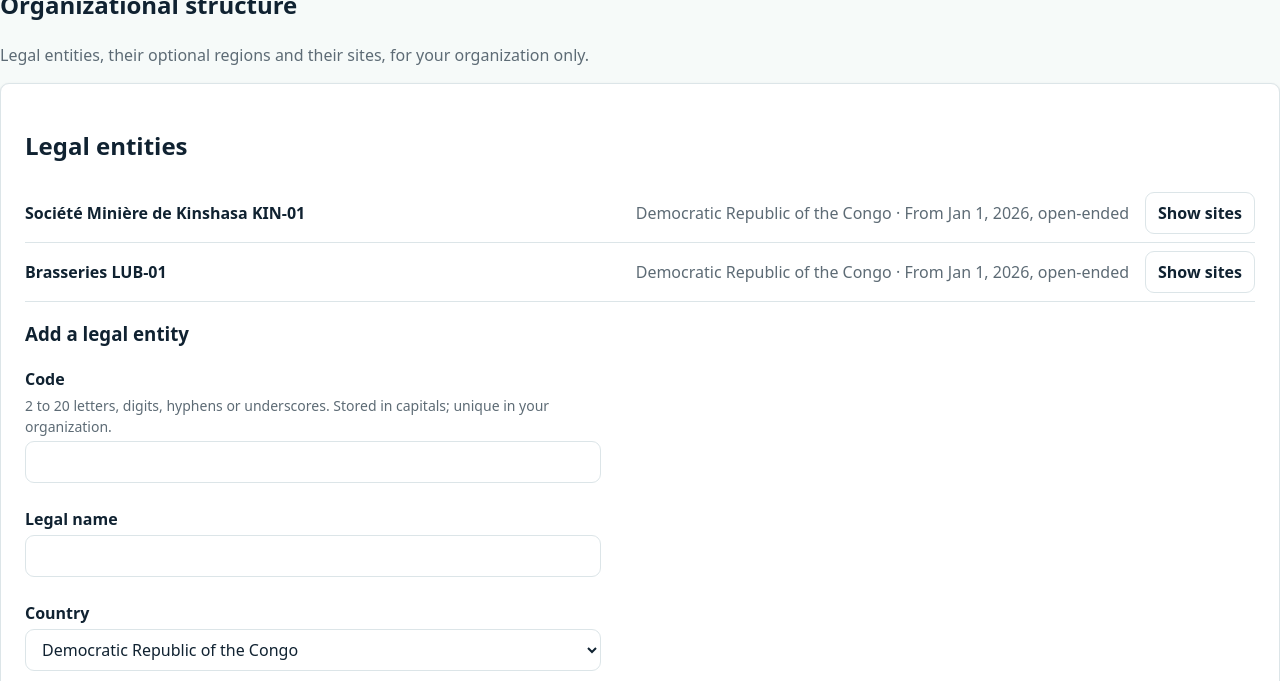
departments and cost centers behaviour › keeps server order without duplicates when a created row sorts after the cursor
This screenshot has width=1280, height=681.
Click the button "Show sites" in the row of "Société Minière de Kinshasa": (1200, 213) [1145,192,1255,234]
(page scrolled)
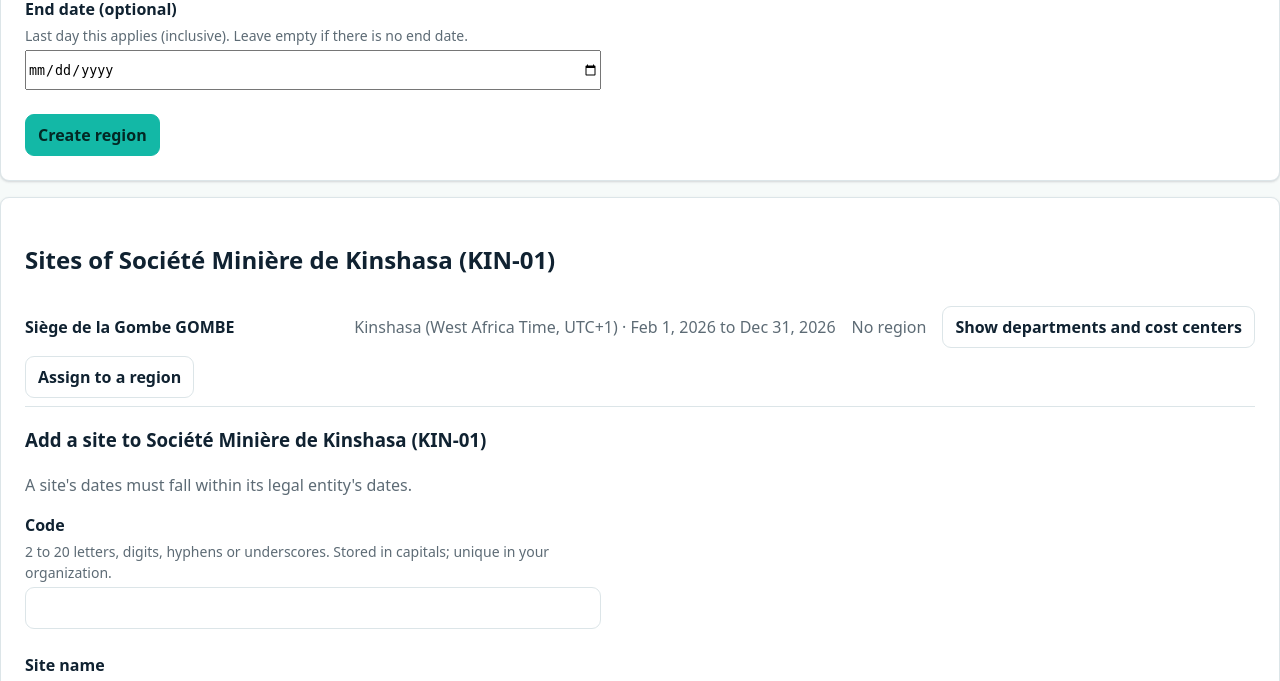
Click the button "Show departments and cost centers": (1099, 327) [942,306,1255,348]
(page scrolled)
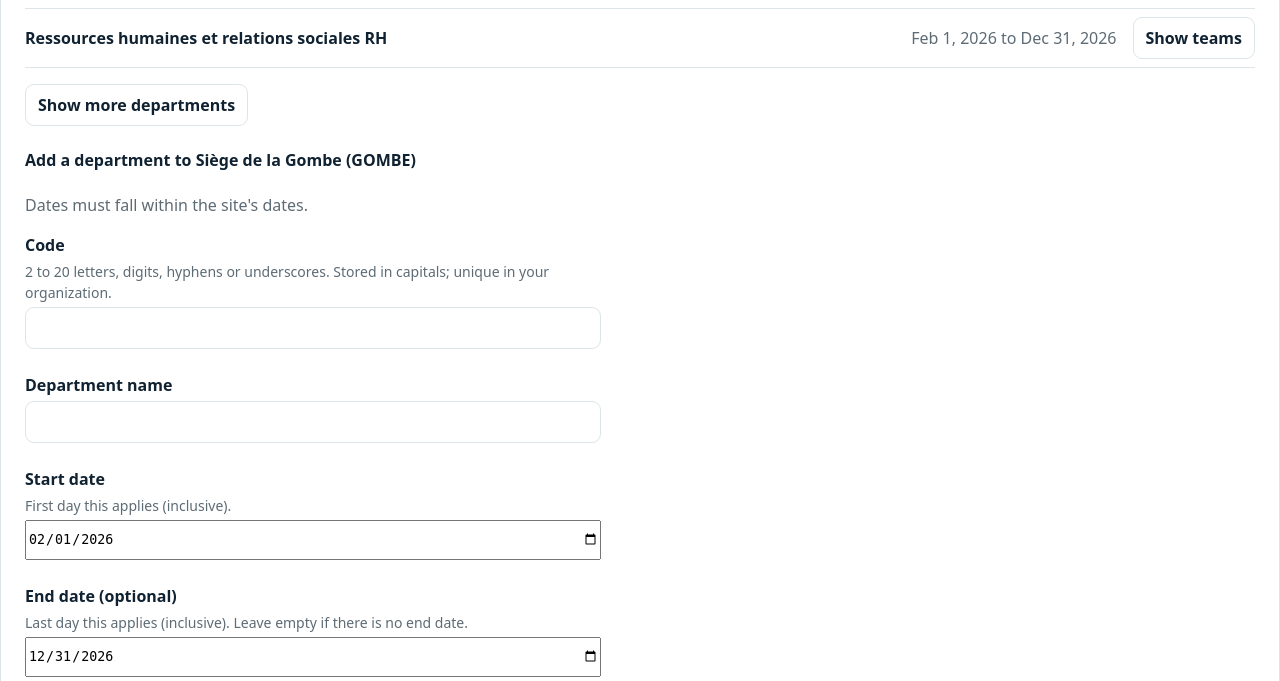
In the field labelled "Code": (313, 328) [25,307,601,349], type "TR"
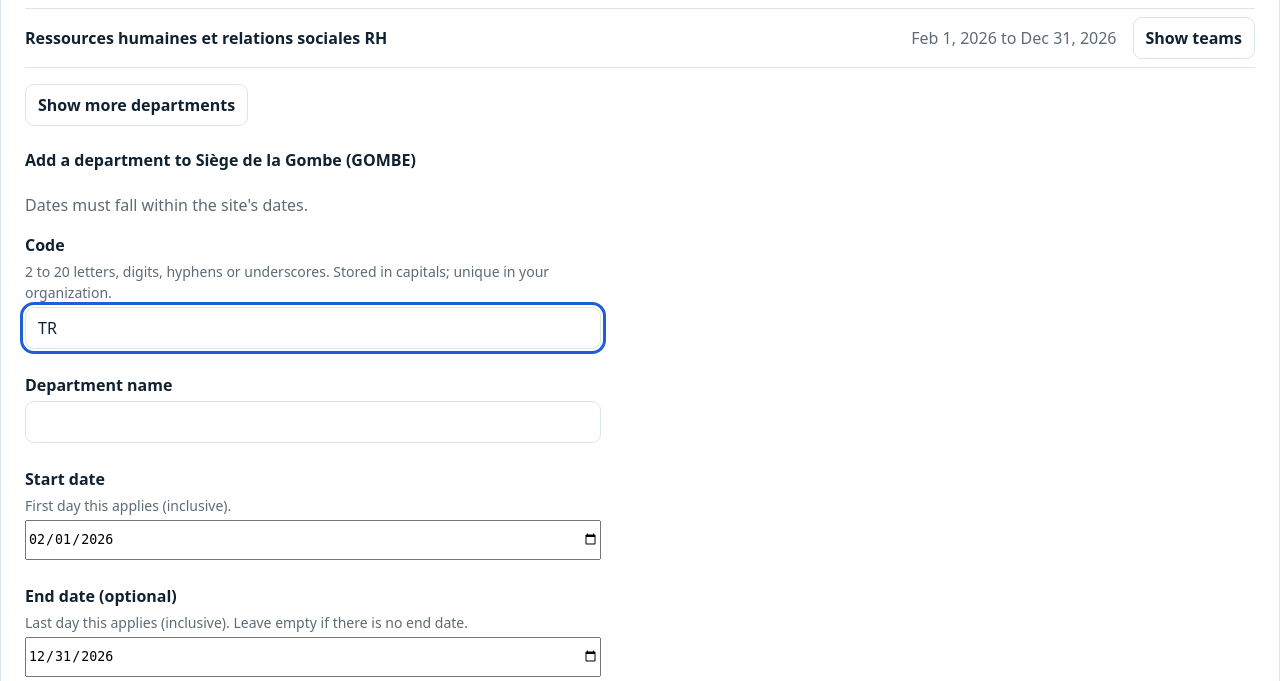
In the field labelled "Department name": (313, 422) [25,401,601,443], type "Transport"
(page scrolled)
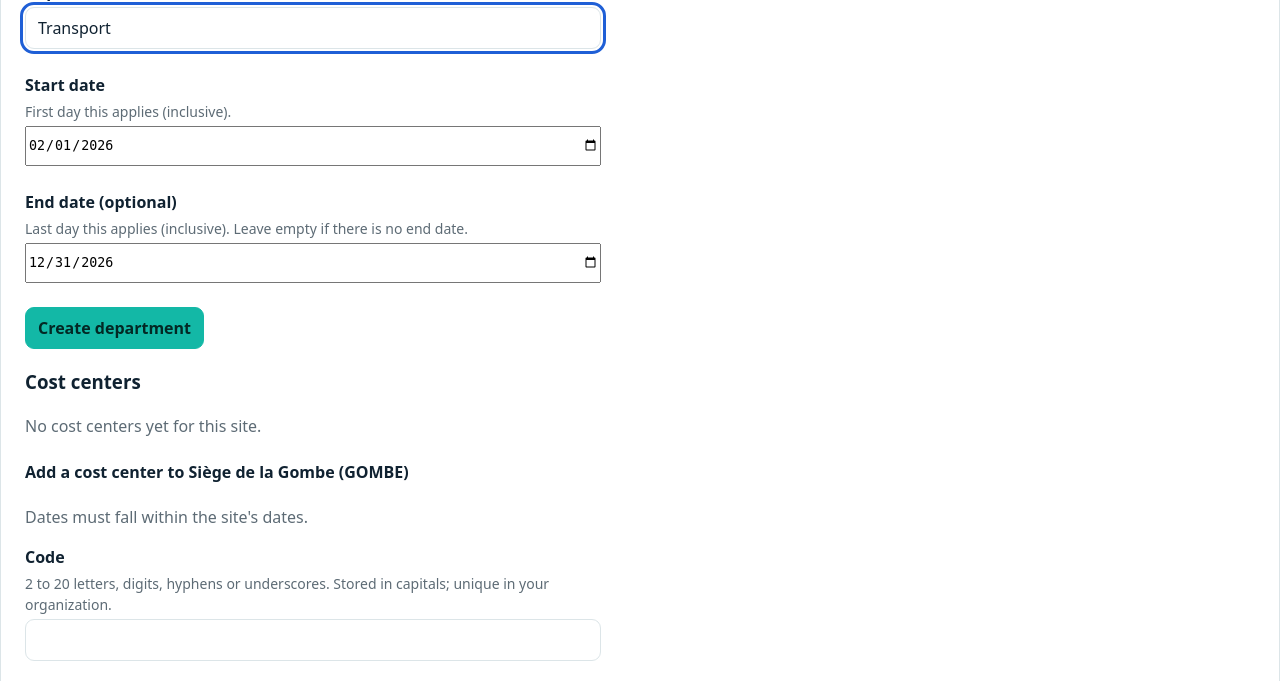
Click the button "Create department": (114, 328) [25,307,204,349]
(page scrolled)
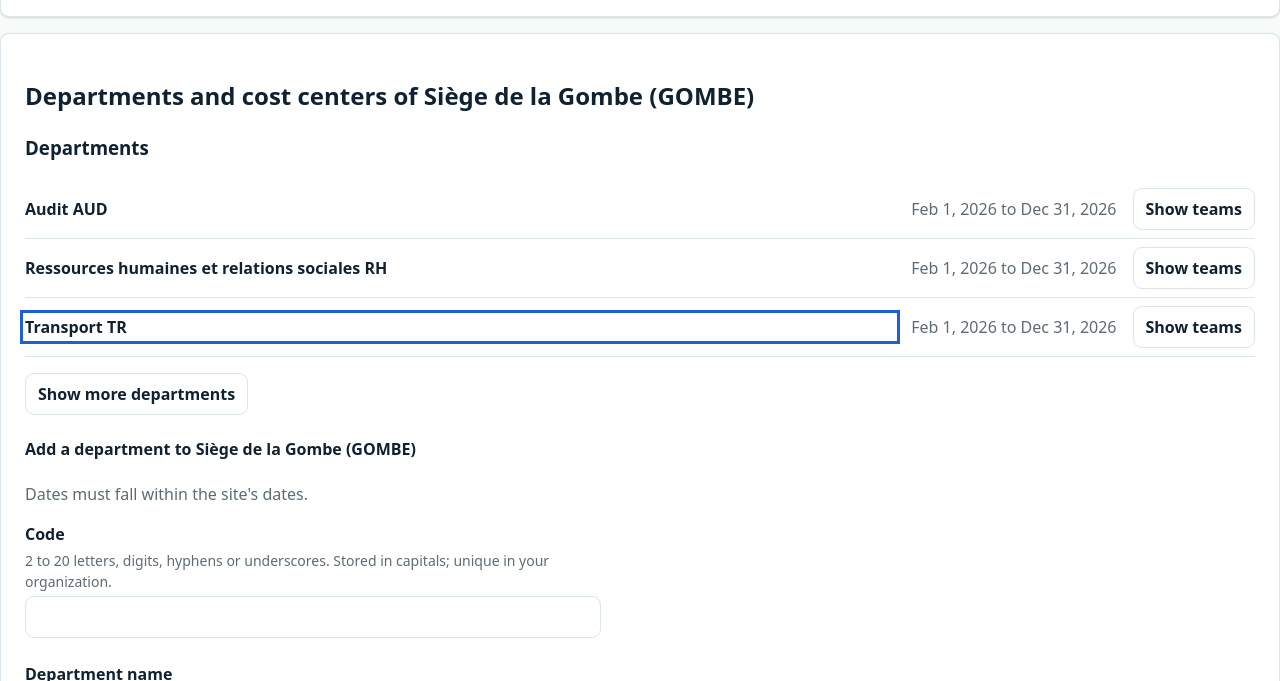
Click the button "Show more departments": (137, 394) [25,373,248,415]
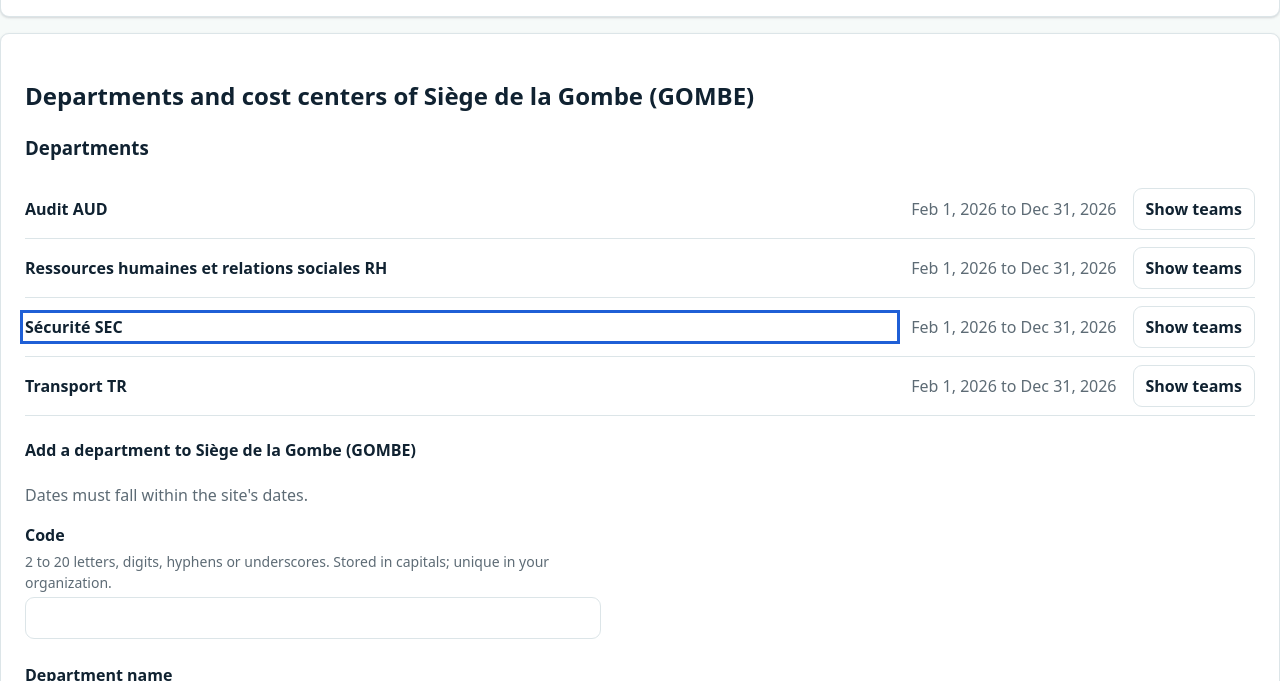
expect the text "Transport" is shown once: met, box [25,375,103,397]
expect the button "Show more departments" is gone: met
